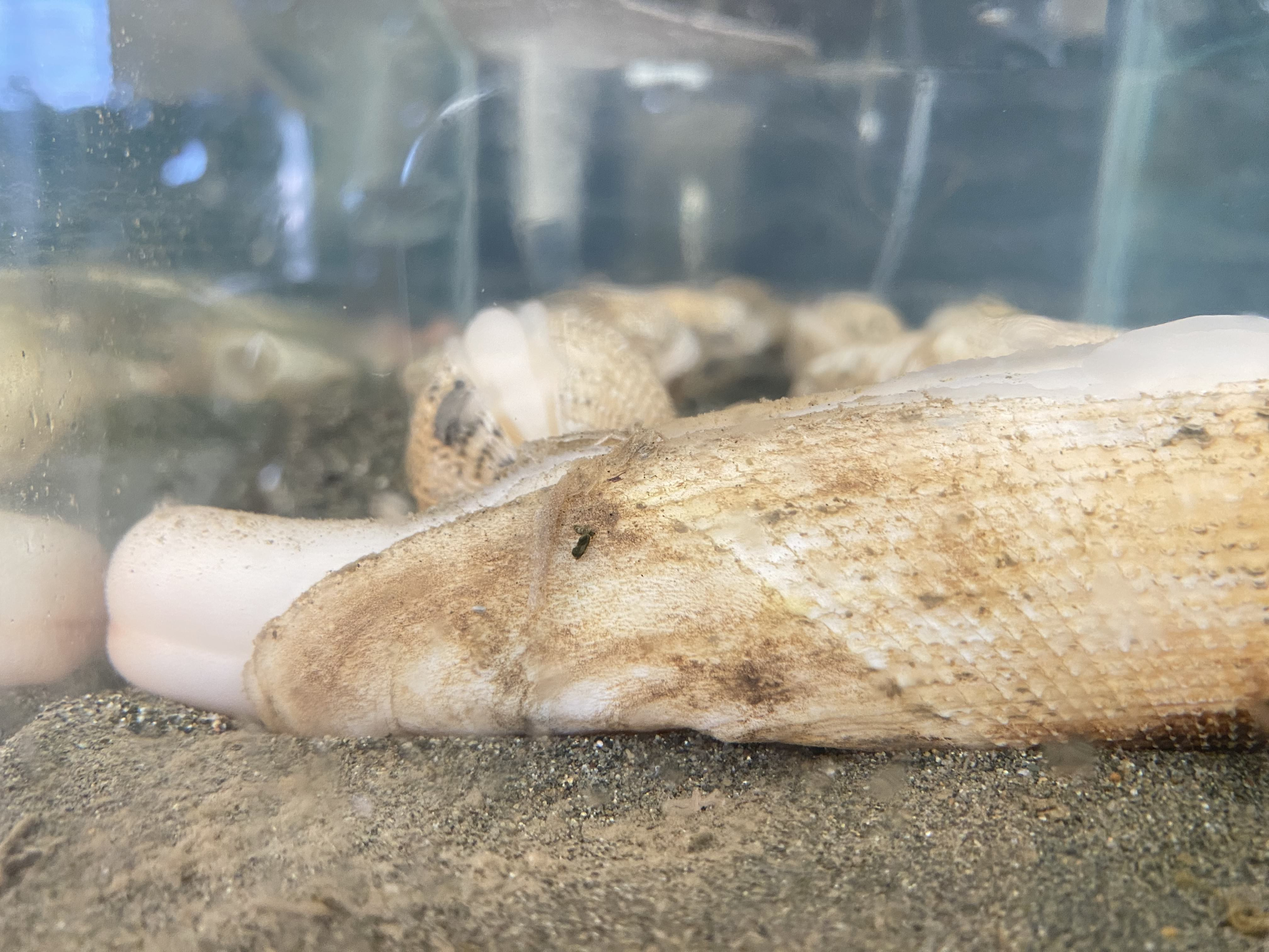Healthy: (105, 315, 1269, 749)
